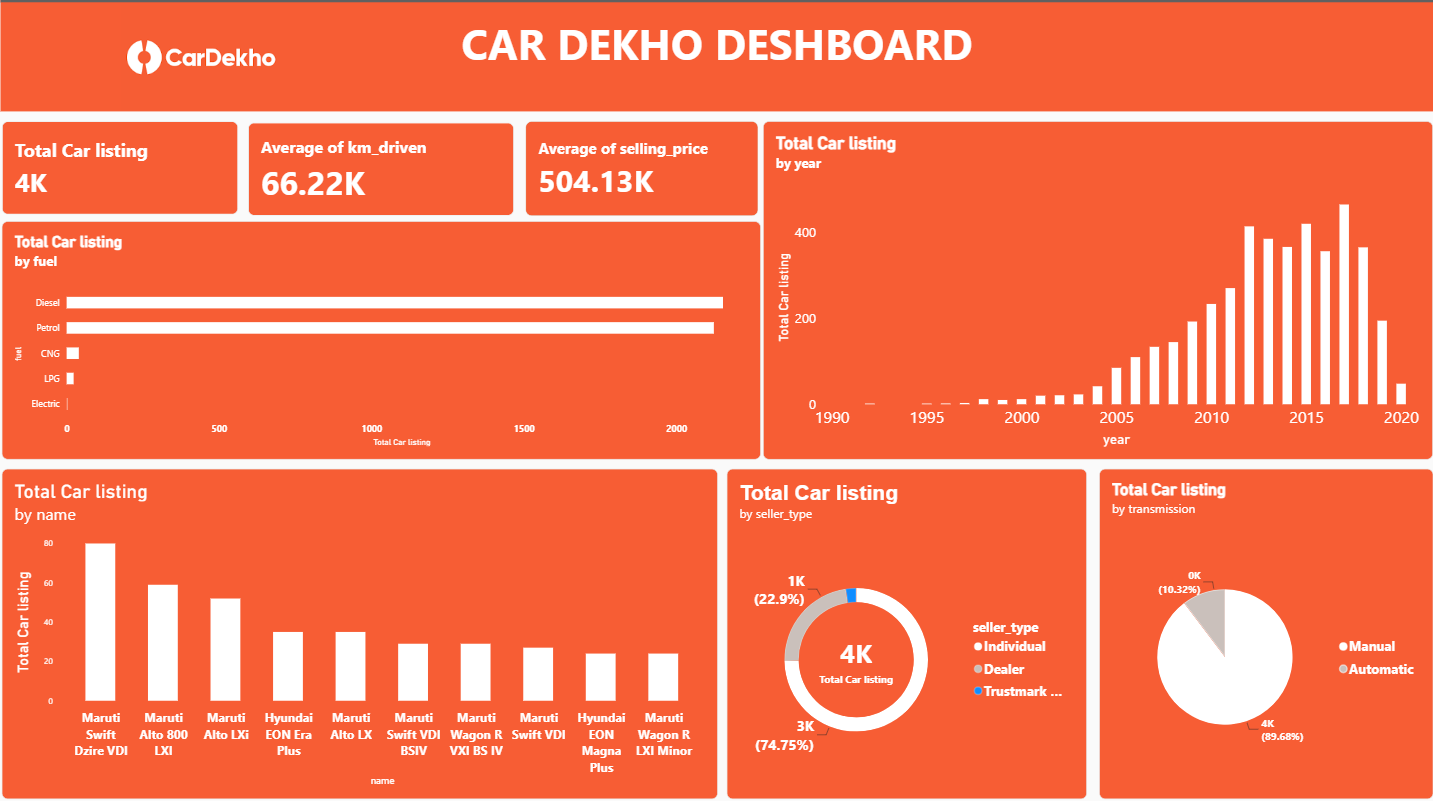

This screenshot's page, from the dashboard's own definition file:
{"tool":"powerbi","page":{"name":"Page 1","canvas":[1920,1080],"ordinal":0},"visuals":[{"type":"cardVisual","fields":{"Data":["Avg(CAR DETAILS FROM CAR DEKHO (1).selling_price)"]},"box":[708.9,166.1,307.1,125],"z":0},{"type":"cardVisual","fields":{"Data":["CAR DETAILS FROM CAR DEKHO (1).Total Car listing"]},"box":[17.9,166.1,312.5,123.2],"z":1000},{"type":"cardVisual","fields":{"Data":["Avg(CAR DETAILS FROM CAR DEKHO (1).km_driven)"]},"box":[342.9,167.9,351.8,123.2],"z":2000},{"type":"barChart","fields":{"Category":["CAR DETAILS FROM CAR DEKHO (1).fuel"],"Y":["CAR DETAILS FROM CAR DEKHO (1).Total Car listing"]},"box":[17.9,298.2,1001.8,314.3],"z":3000},{"type":"pieChart","fields":{"Category":["CAR DETAILS FROM CAR DEKHO (1).transmission"],"Y":["CAR DETAILS FROM CAR DEKHO (1).Total Car listing"]},"box":[1466.1,625,441.1,435.7],"z":4000},{"type":"donutChart","fields":{"Category":["CAR DETAILS FROM CAR DEKHO (1).seller_type"],"Y":["CAR DETAILS FROM CAR DEKHO (1).Total Car listing"]},"box":[975,625,475,435.7],"z":5000},{"type":"columnChart","fields":{"Category":["CAR DETAILS FROM CAR DEKHO (1).year"],"Y":["CAR DETAILS FROM CAR DEKHO (1).Total Car listing"]},"box":[1023.2,166.1,883.9,446.4],"z":6000},{"type":"columnChart","fields":{"Category":["CAR DETAILS FROM CAR DEKHO (1).name"],"Y":["CAR DETAILS FROM CAR DEKHO (1).Total Car listing"]},"box":[17.9,625,944.6,435.7],"z":7000},{"type":"textbox","box":[16.1,0,1891.1,153.6],"z":8000},{"type":"image","box":[17.4,14,525,139.3],"z":9000}]}

Visuals, with their boxes in screenshot pixels (x1, y1, x2, y2), scaled from the page's 1920x1080 canvas onto the 1433x801 screenshot:
cardVisual - Avg(CAR DETAILS FROM CAR DEKHO (1).selling_price): <region>529, 123, 758, 216</region>
cardVisual - CAR DETAILS FROM CAR DEKHO (1).Total Car listing: <region>13, 123, 247, 215</region>
cardVisual - Avg(CAR DETAILS FROM CAR DEKHO (1).km_driven): <region>256, 125, 518, 216</region>
barChart - CAR DETAILS FROM CAR DEKHO (1).fuel x CAR DETAILS FROM CAR DEKHO (1).Total Car listing: <region>13, 221, 761, 454</region>
pieChart - CAR DETAILS FROM CAR DEKHO (1).transmission x CAR DETAILS FROM CAR DEKHO (1).Total Car listing: <region>1094, 464, 1423, 787</region>
donutChart - CAR DETAILS FROM CAR DEKHO (1).seller_type x CAR DETAILS FROM CAR DEKHO (1).Total Car listing: <region>728, 464, 1082, 787</region>
columnChart - CAR DETAILS FROM CAR DEKHO (1).year x CAR DETAILS FROM CAR DEKHO (1).Total Car listing: <region>764, 123, 1423, 454</region>
columnChart - CAR DETAILS FROM CAR DEKHO (1).name x CAR DETAILS FROM CAR DEKHO (1).Total Car listing: <region>13, 464, 718, 787</region>
textbox: <region>12, 0, 1423, 114</region>
image: <region>13, 10, 405, 114</region>
